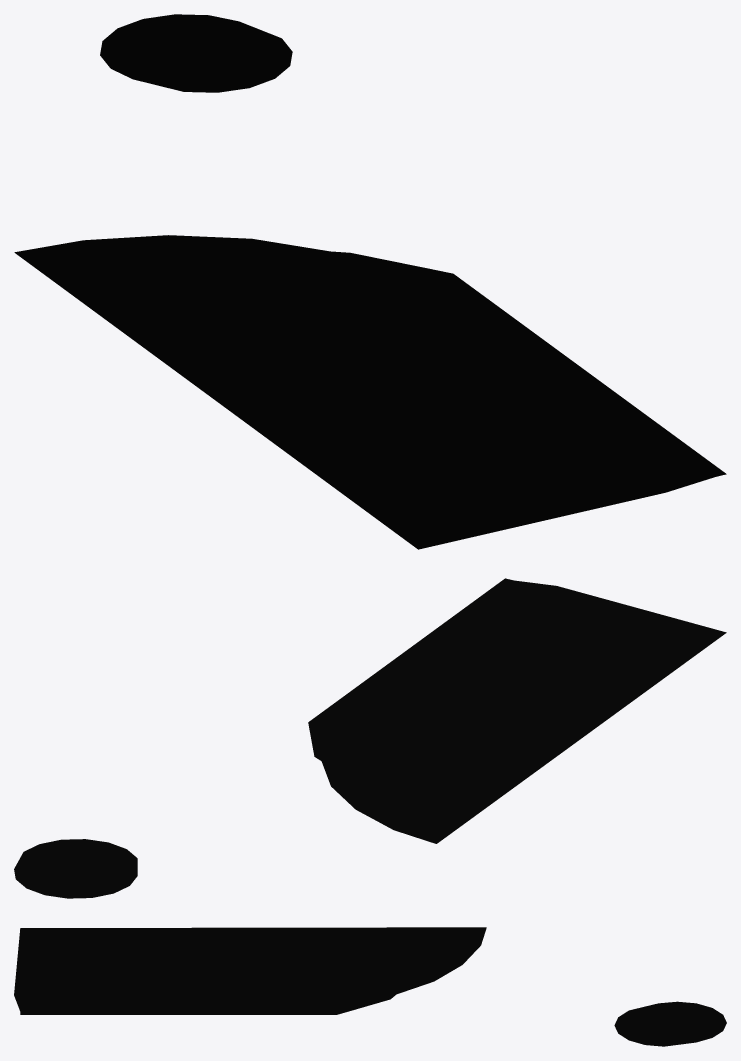
3 renders of one model, top to bottom at view 1: azimuth 30°, elevation 25°; view 2: azimuth 150°, elevation 25°; view 3: azimuth 270°, elevation 25°, orthographic. The views are drawn at different scales.
Parts seen in each view (by area): view 1: Joint_0_Object_0; view 2: Joint_0_Object_0; view 3: Joint_0_Object_0.
Part boxes in pixels (box(x1,y1,x2,y2)): Joint_0_Object_0: box(14, 14, 726, 549); Joint_0_Object_0: box(14, 578, 726, 898); Joint_0_Object_0: box(14, 927, 726, 1046).
Size of the model in its own units: 1920 by 8.12 by 4875.
1 material, 1 textured.
